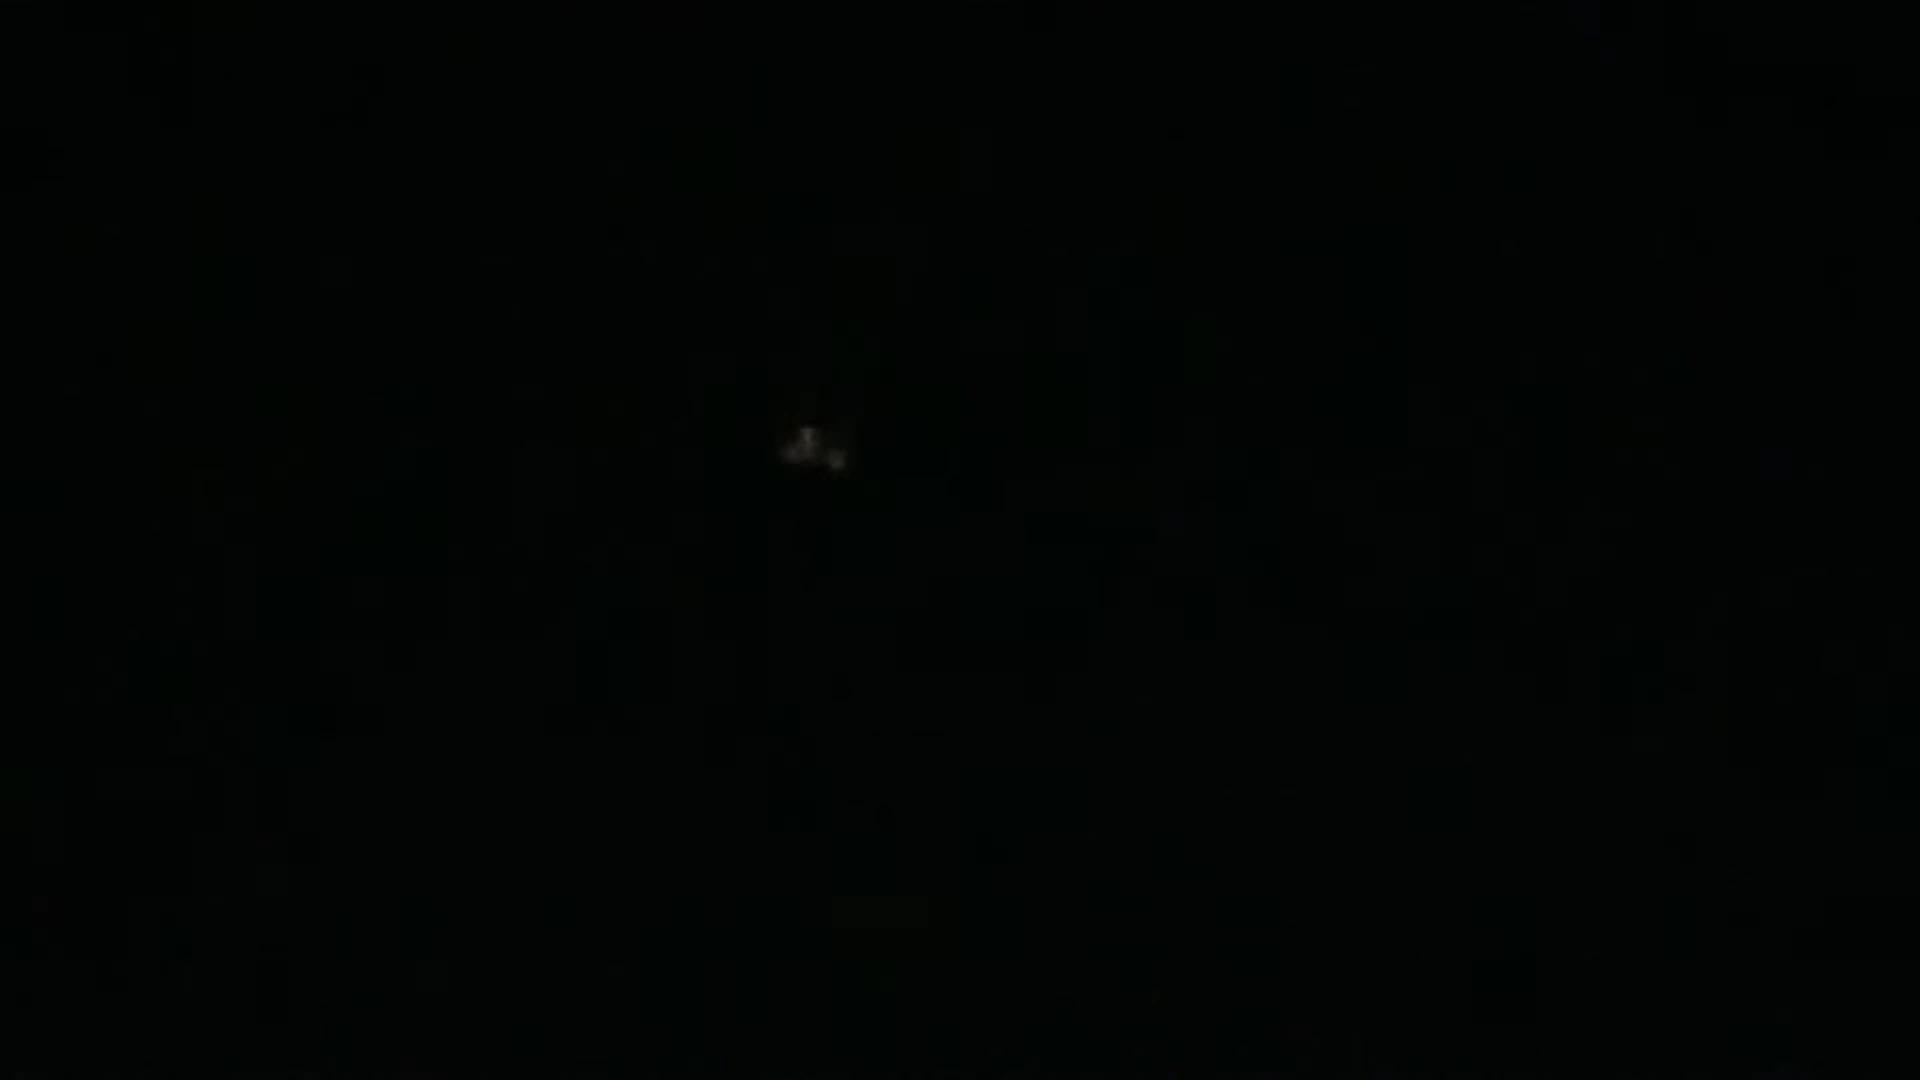Plane: (721, 401, 934, 504)
